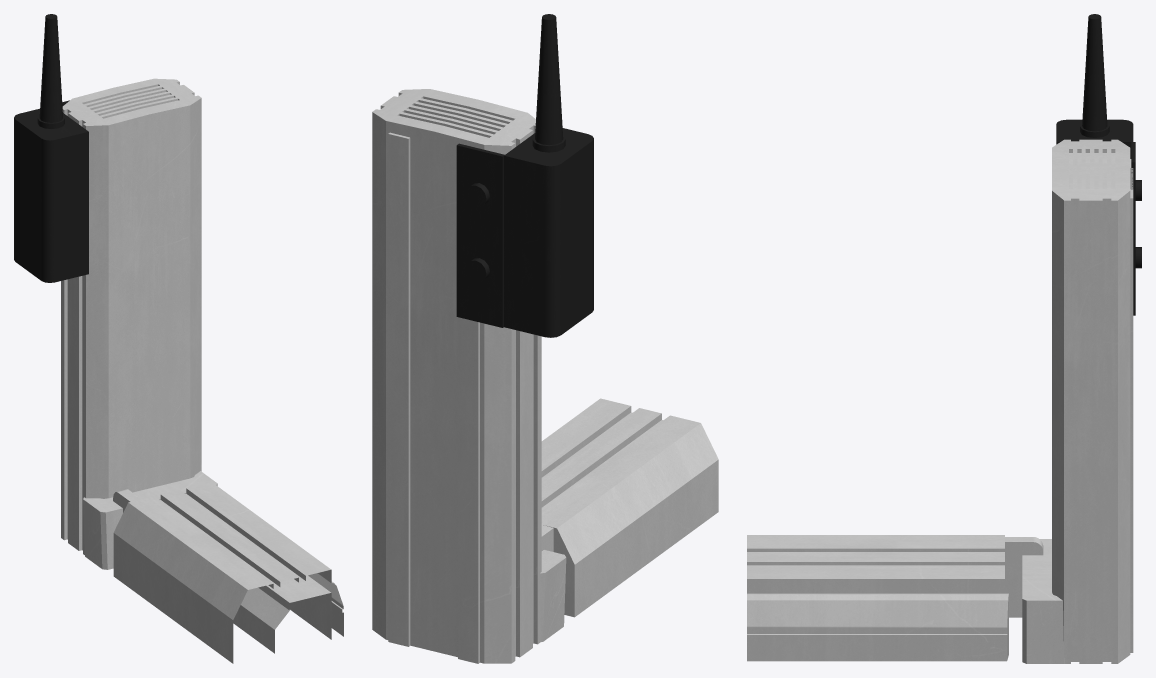
File: PickingStation_Cube08.glb
3 views of the same model, side by side, from view 1: azimuth 30°, elevation 25°; view 2: azimuth 150°, elevation 25°; view 3: azimuth 270°, elevation 25° (orthographic). The views are drawn at different scales.
Parts seen in each view (by area): view 1: color-13[5]; view 2: color-13[5]; view 3: color-13[5].
Part boxes in pixels (<box>): color-13[5]: <box>14,14,343,663</box>; color-13[5]: <box>372,14,718,663</box>; color-13[5]: <box>747,14,1141,663</box>.
Bounding box in the file's own units: 0.0936 × 0.3 × 0.1865.
Materials: 2 (2 with a texture image).
